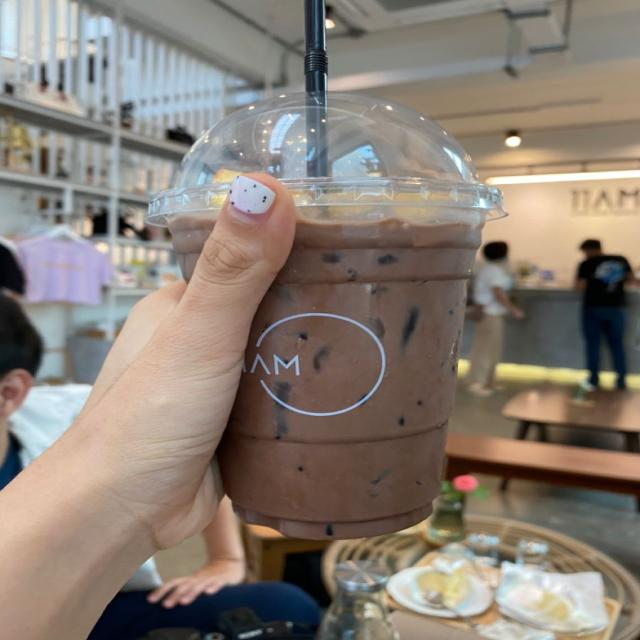plastic cup: (148, 92, 507, 538)
